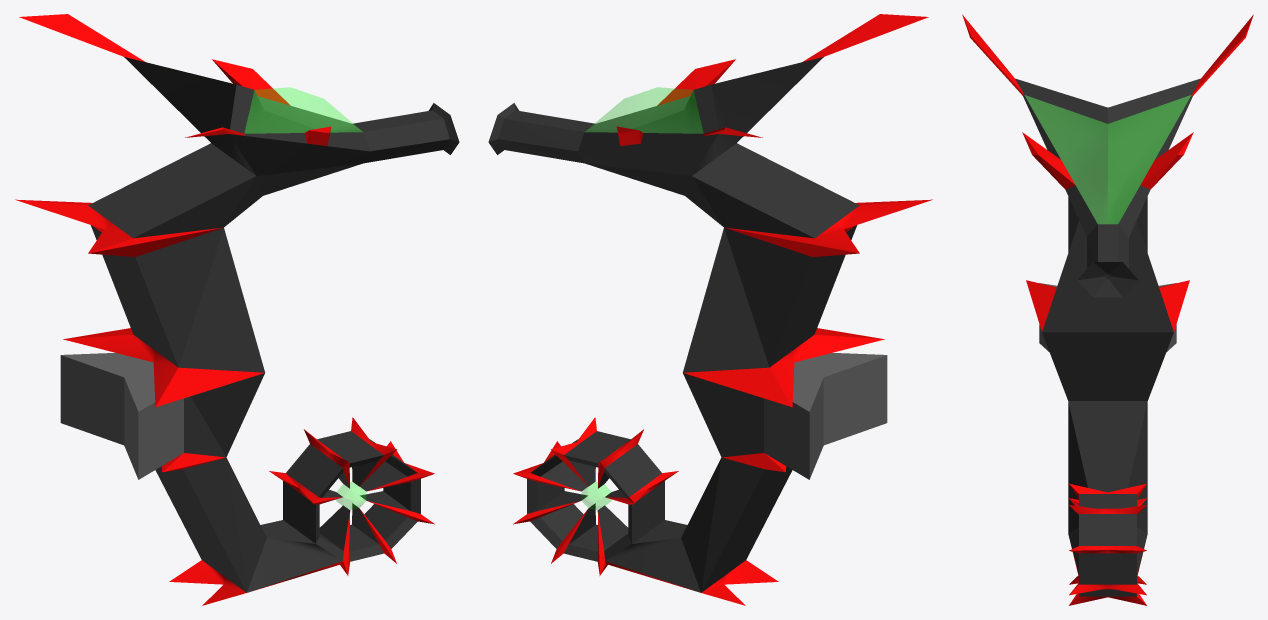
Rendered from Striker glTF.glb.
3 views of the same model, side by side, from view 1: azimuth 30°, elevation 25°; view 2: azimuth 150°, elevation 25°; view 3: azimuth 270°, elevation 25° (orthographic). The views are drawn at different scales.
Size of the model in its own units: 5.01 by 6.58 by 3.67.
